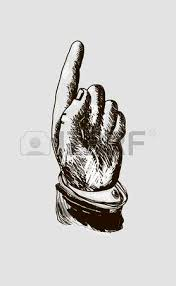hand: (34, 29, 147, 196)
